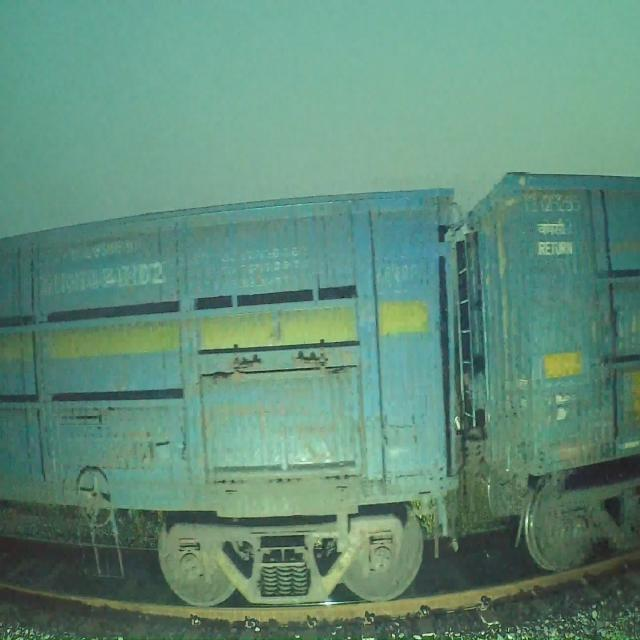WAgon-uic: (0, 176, 469, 614), (435, 166, 640, 579)
uic: (37, 255, 169, 304)
